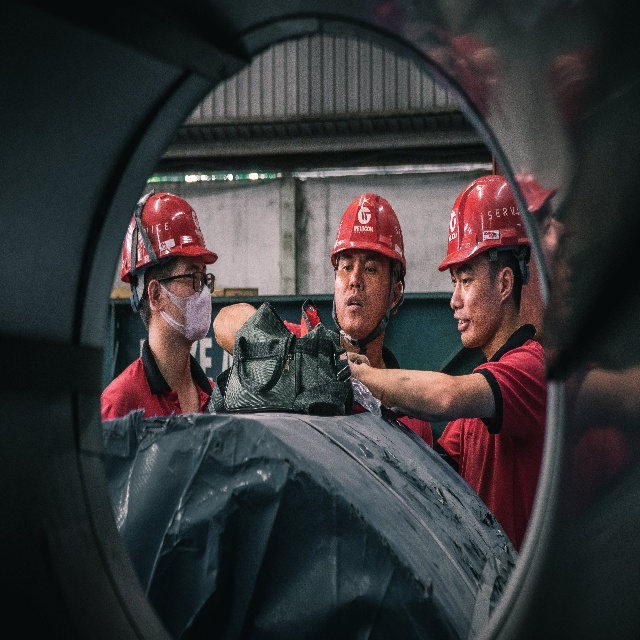Gafas: (158, 269, 215, 293)
Mascara: (154, 282, 212, 342)
